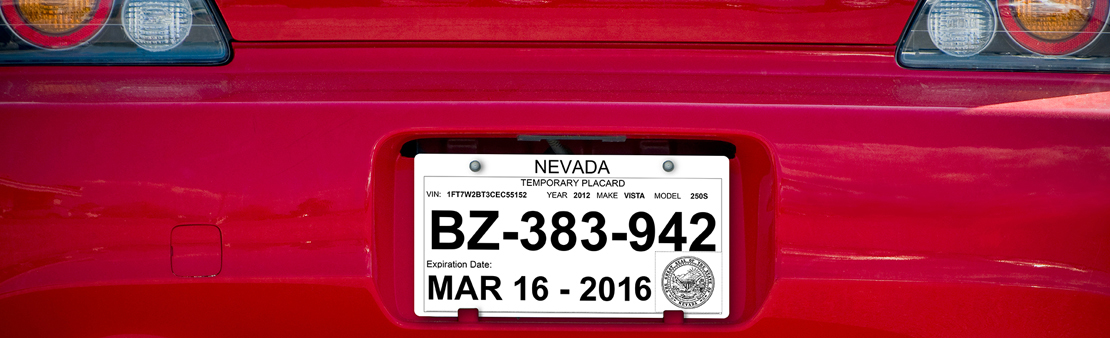license plate: (404, 149, 739, 321)
